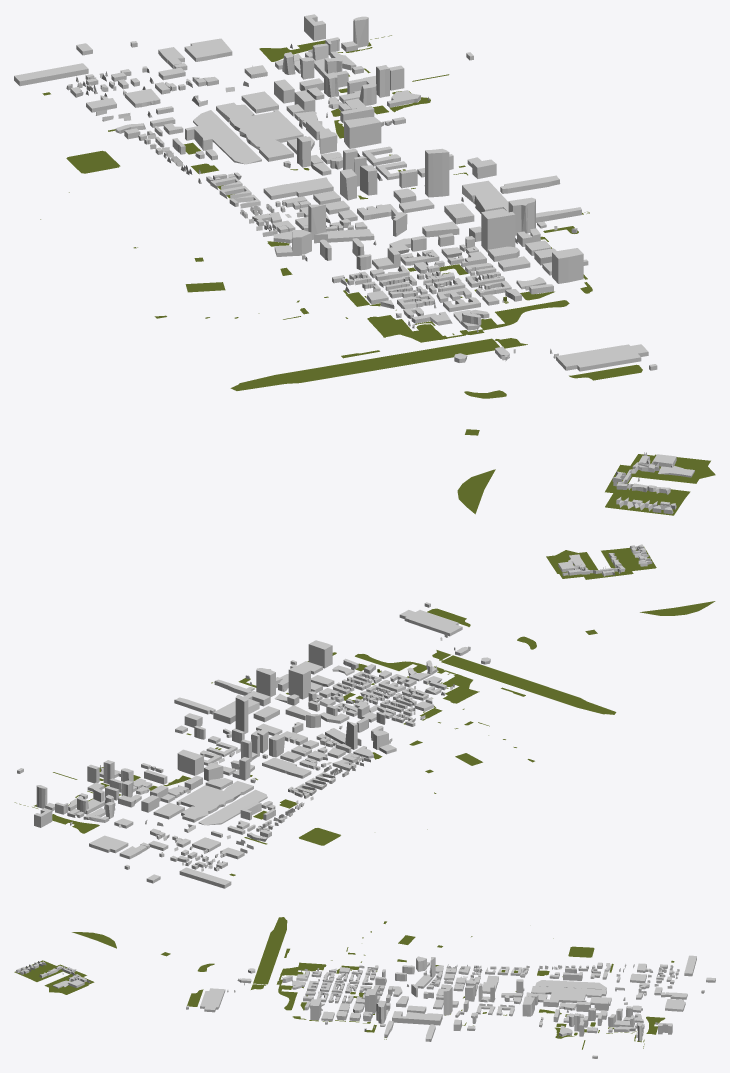
File: area1_lod0.glb
3 views of the same model, one above another, from view 1: azimuth 30°, elevation 25°; view 2: azimuth 150°, elevation 25°; view 3: azimuth 270°, elevation 25° (orthographic). The views are drawn at different scales.
Visible parts, largest first — view 1: Area02_Lod0, Areas:leisure.007; view 2: Area02_Lod0, Areas:leisure.007; view 3: Area02_Lod0, Areas:leisure.007.
Part boxes in pixels (x1,y1,x2,y2): Area02_Lod0: (14,14,694,514); Areas:leisure.007: (40,35,715,515); Area02_Lod0: (17,544,652,888); Areas:leisure.007: (14,547,715,876); Area02_Lod0: (16,955,715,1058); Areas:leisure.007: (14,917,674,1049).
Size of what is drawn, in the model's own units: 2714 by 217 by 5670.
